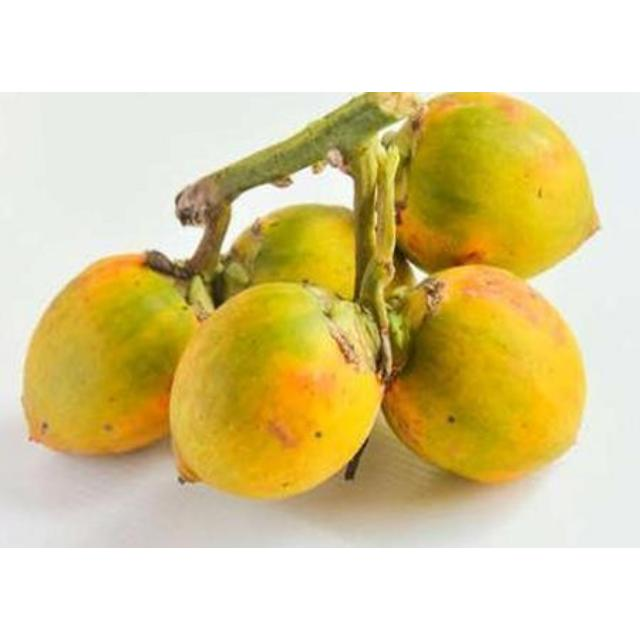good: (168, 280, 395, 502), (381, 264, 589, 486), (395, 92, 602, 281), (20, 254, 198, 459), (218, 204, 357, 304)
